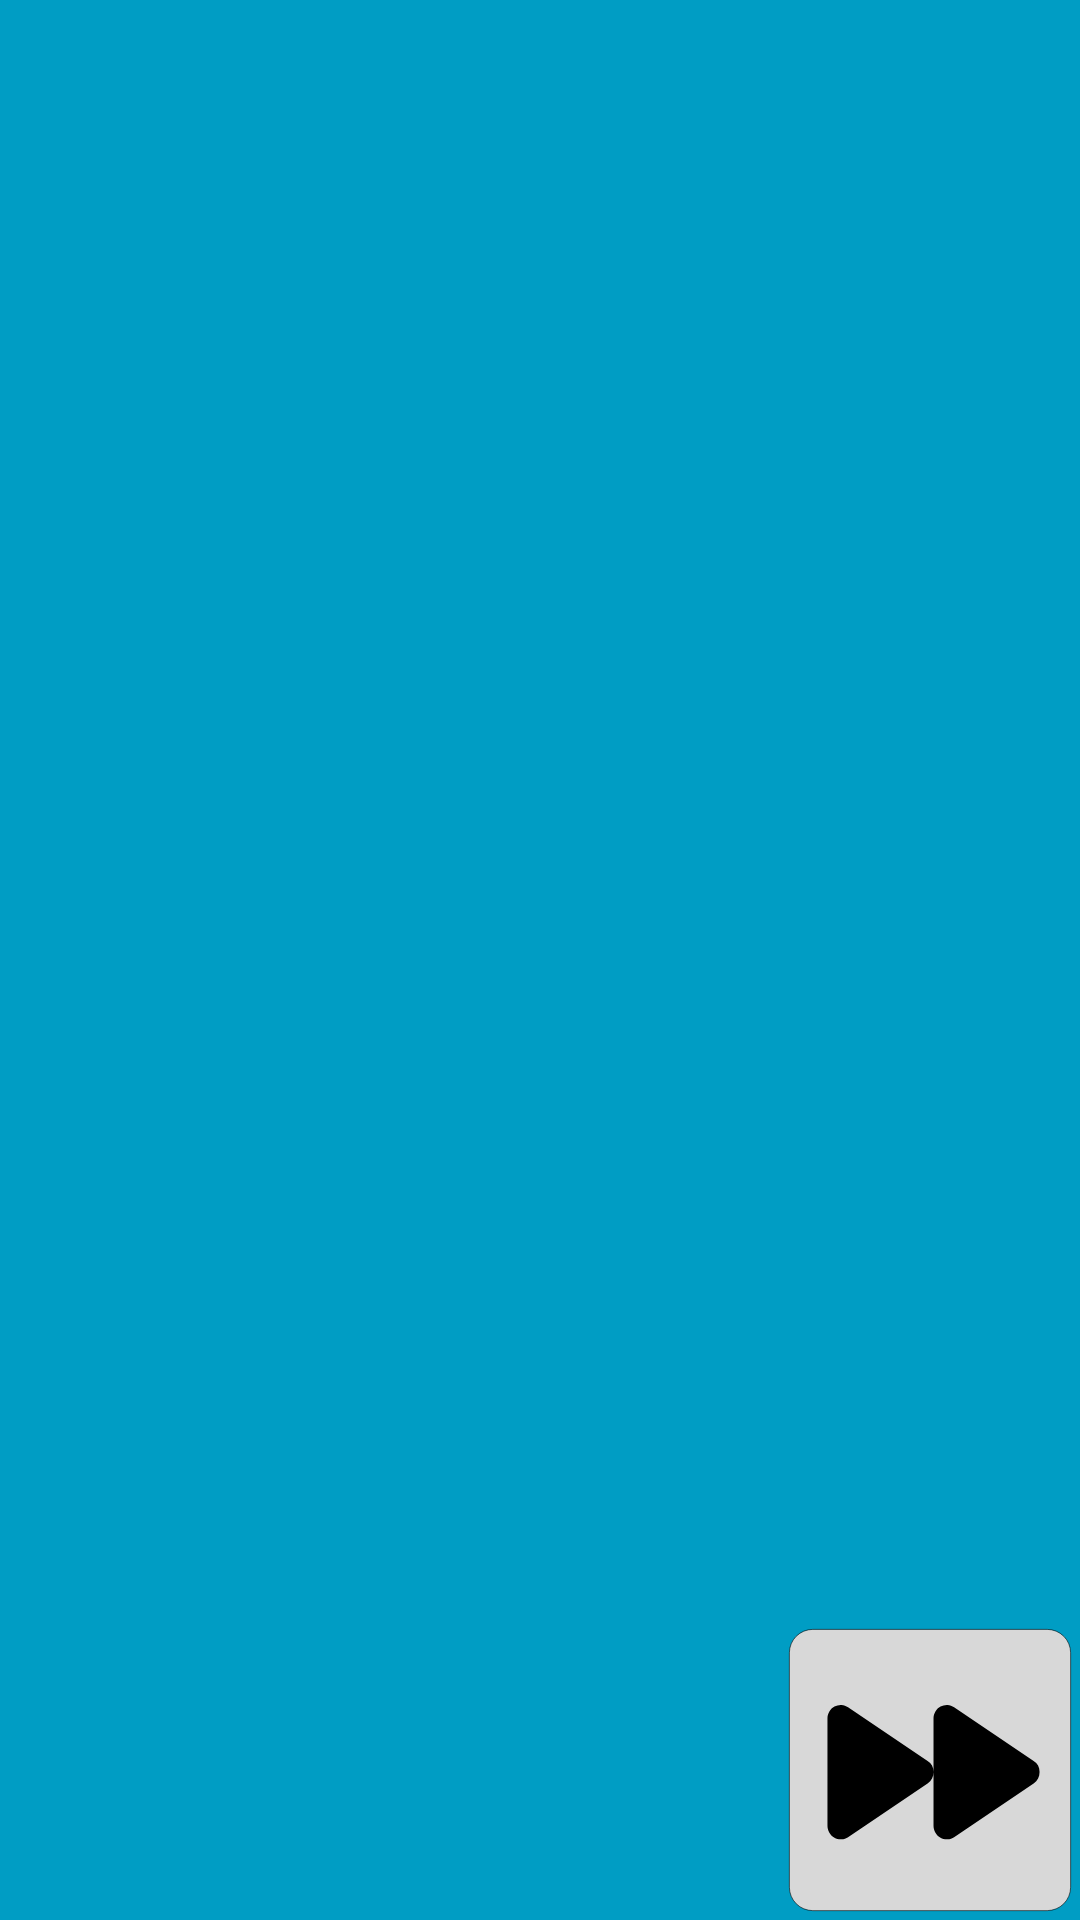

Icons on this 1080px x 1920px Android screen, each with its box as {"x1": x1, "y1": y1, "x2": x2, "y2": y2}:
end turn: {"x1": 789, "y1": 1629, "x2": 1071, "y2": 1911}
